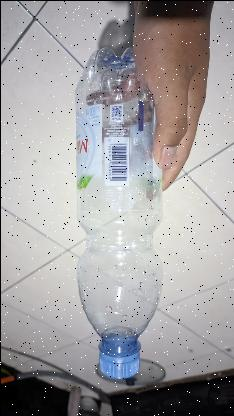Plastic Bottle: (75, 18, 163, 380)
